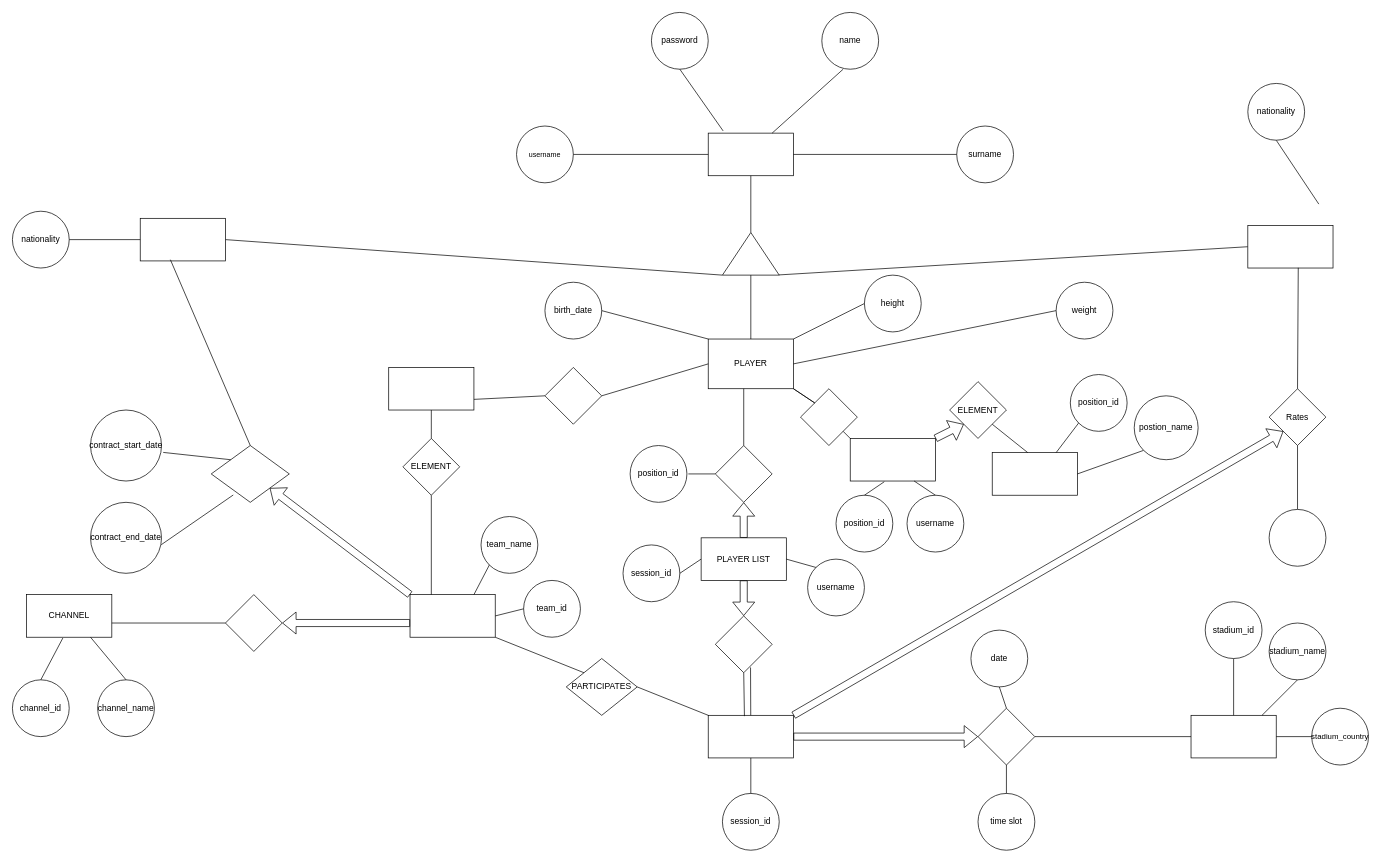
Image size: 1381x863. Some labels were removed from this diagram. Here are the shapes that lost their labels. From the top down, the centre of each, then its label:
At (750,154): "USER".
At (182,239): "COACH".
At (750,253): "ISA".
At (1290,246): "JURY".
At (431,388): "TEAM LIST".
At (573,395): "ENROLLED".
At (828,417): "CAN PLAY".
At (250,473): "DIRECTS".
At (743,473): "IN SESSION".
At (892,459): "POSITION LIST".
At (1034,473): "POSITION".
At (1297,537): "rating".
At (253,622): "AGREES".
At (452,615): "TEAM".
At (743,644): "IN MATCH".
At (750,736): "MATCH".
At (1006,736): "BEING PLAYED".
At (1233,736): "STADIUM".
